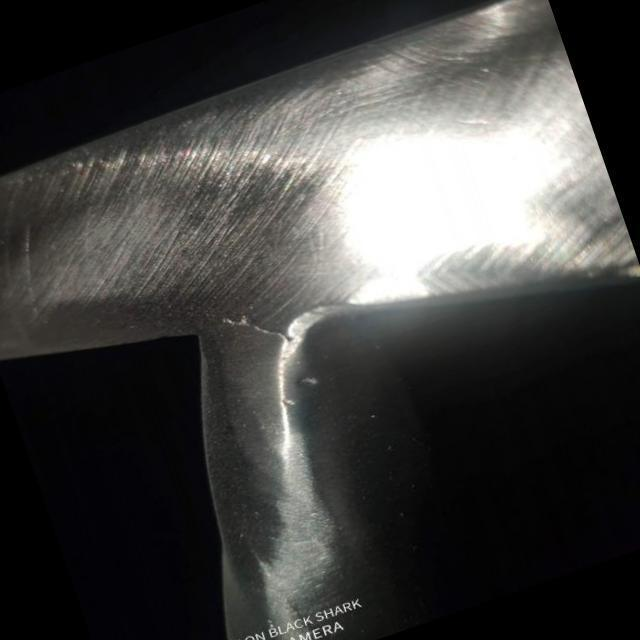defect: (223, 310, 296, 343)
